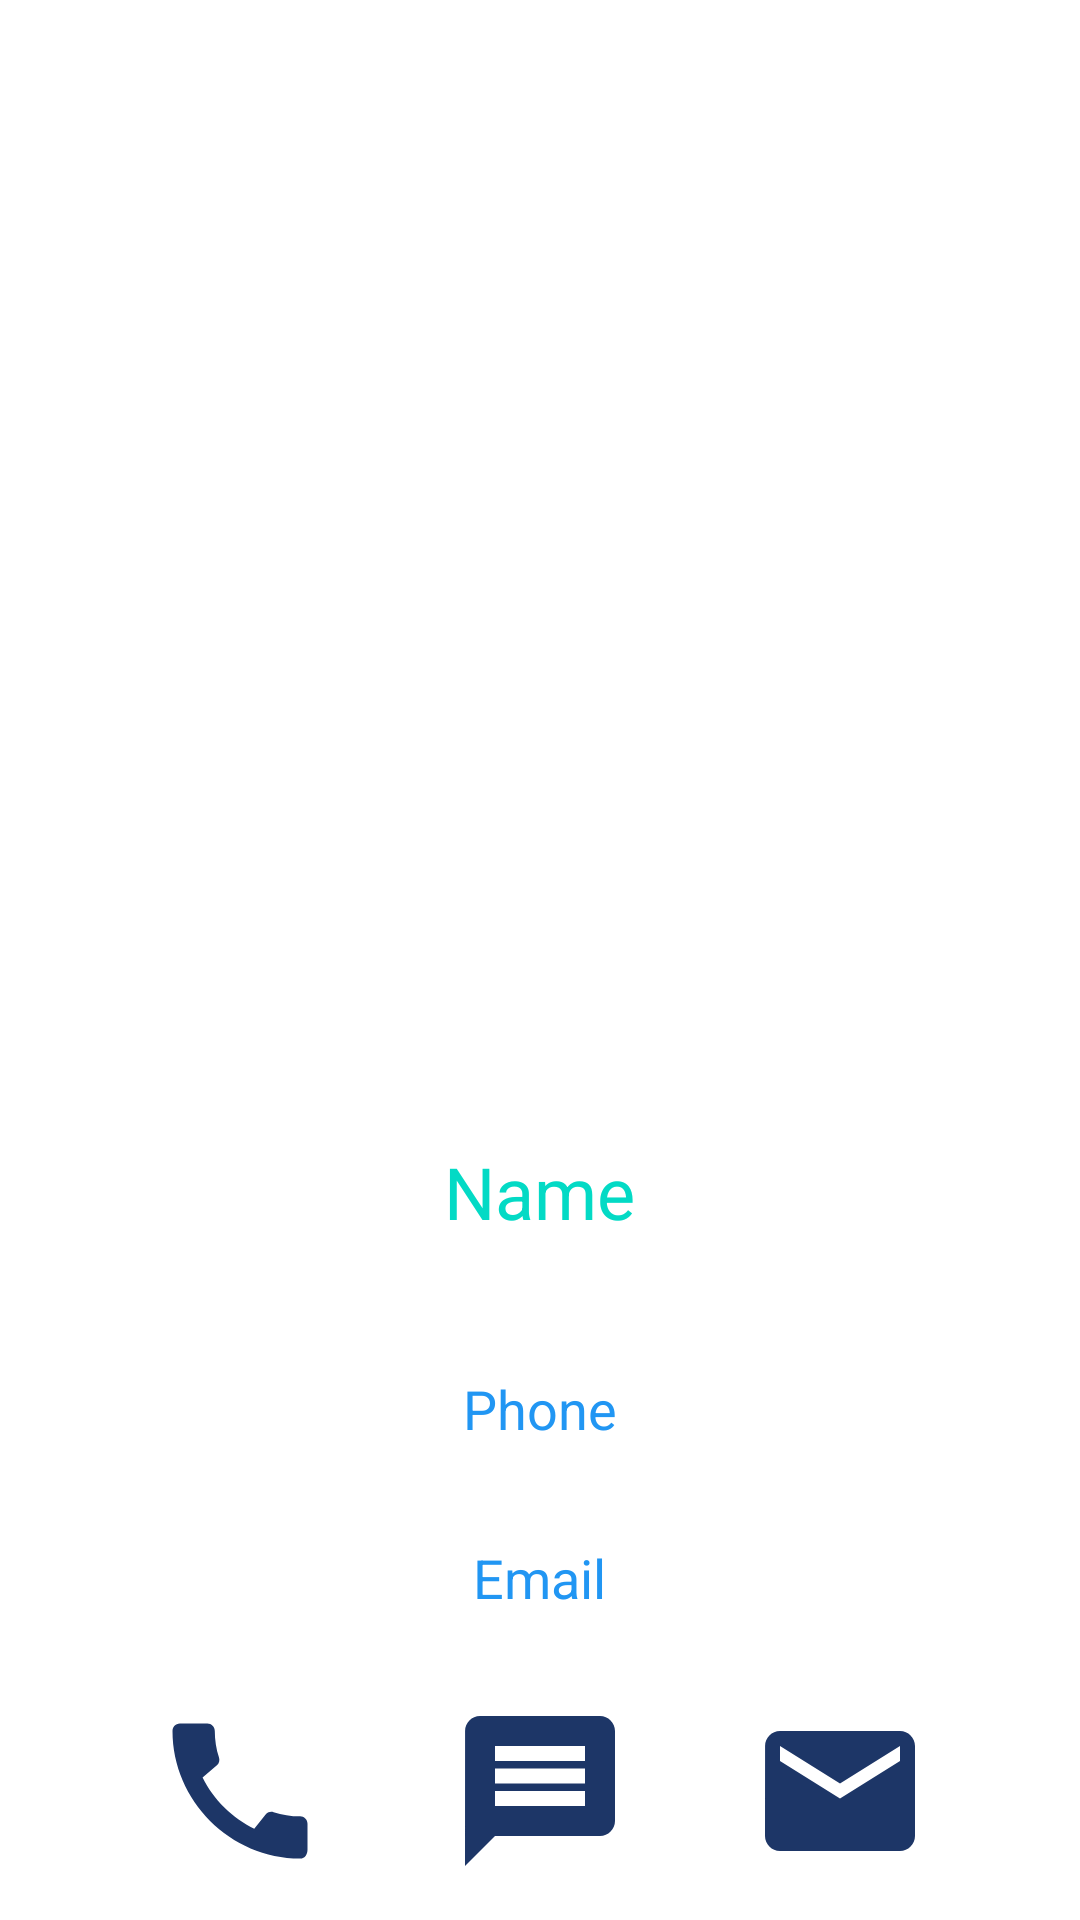

Icons on this 1080 × 1920 Android screen, each with its box as [left=x1, top=y1, right=x2, bottom=y2]:
call: [left=172, top=1723, right=308, bottom=1859]
message: [left=465, top=1716, right=615, bottom=1866]
